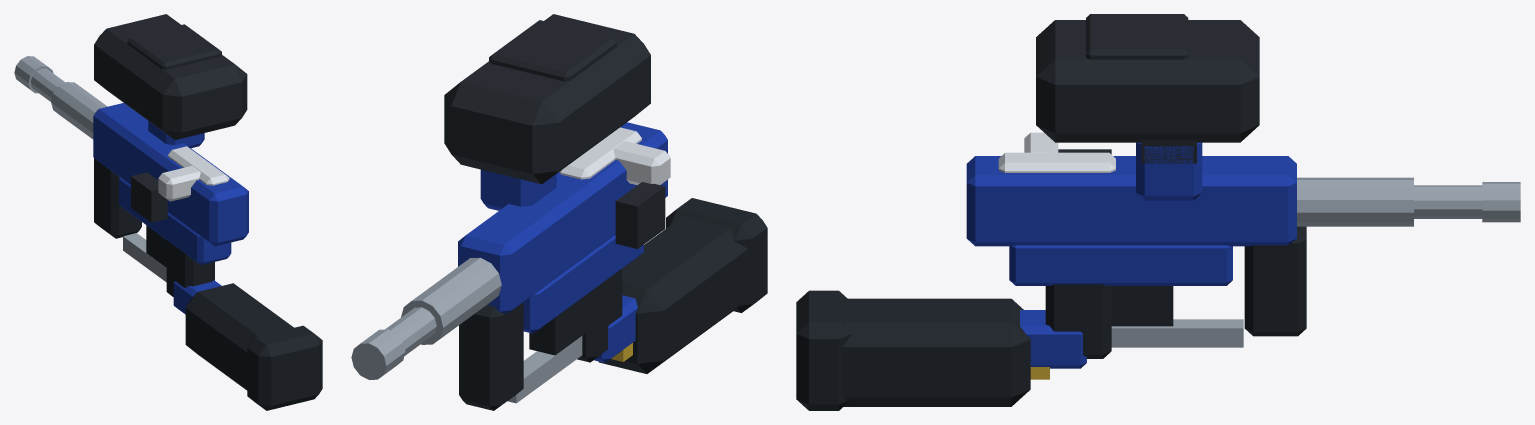
The model's file is launcher_paintball_marker.glb.
3 views of the same model, side by side, from view 1: azimuth 30°, elevation 25°; view 2: azimuth 150°, elevation 25°; view 3: azimuth 270°, elevation 25° (orthographic). The views are drawn at different scales.
Parts seen in each view (by area): view 1: pistol_grip, hopper_neck, body, barrel_shroud, bolt_slide; view 2: hopper_neck, pistol_grip, body, barrel_shroud, bolt_slide; view 3: body, pistol_grip, hopper_neck, barrel_shroud, bolt_slide.
Part boxes in pixels (bbox=[...]): pistol_grip: bbox=[94, 158, 322, 410]; hopper_neck: bbox=[94, 14, 247, 222]; body: bbox=[93, 103, 248, 314]; barrel_shroud: bbox=[14, 56, 166, 282]; bolt_slide: bbox=[158, 146, 229, 201]; hopper_neck: bbox=[444, 14, 665, 248]; pistol_grip: bbox=[459, 198, 767, 410]; body: bbox=[458, 122, 667, 362]; barrel_shroud: bbox=[351, 257, 582, 403]; bolt_slide: bbox=[559, 127, 670, 185]; body: bbox=[966, 142, 1296, 368]; pistol_grip: bbox=[796, 226, 1306, 410]; hopper_neck: bbox=[1036, 14, 1259, 163]; barrel_shroud: bbox=[1111, 177, 1520, 347]; bolt_slide: bbox=[998, 132, 1115, 172].
Bounding box in the file's own units: 0.14 × 0.38 × 0.68.
